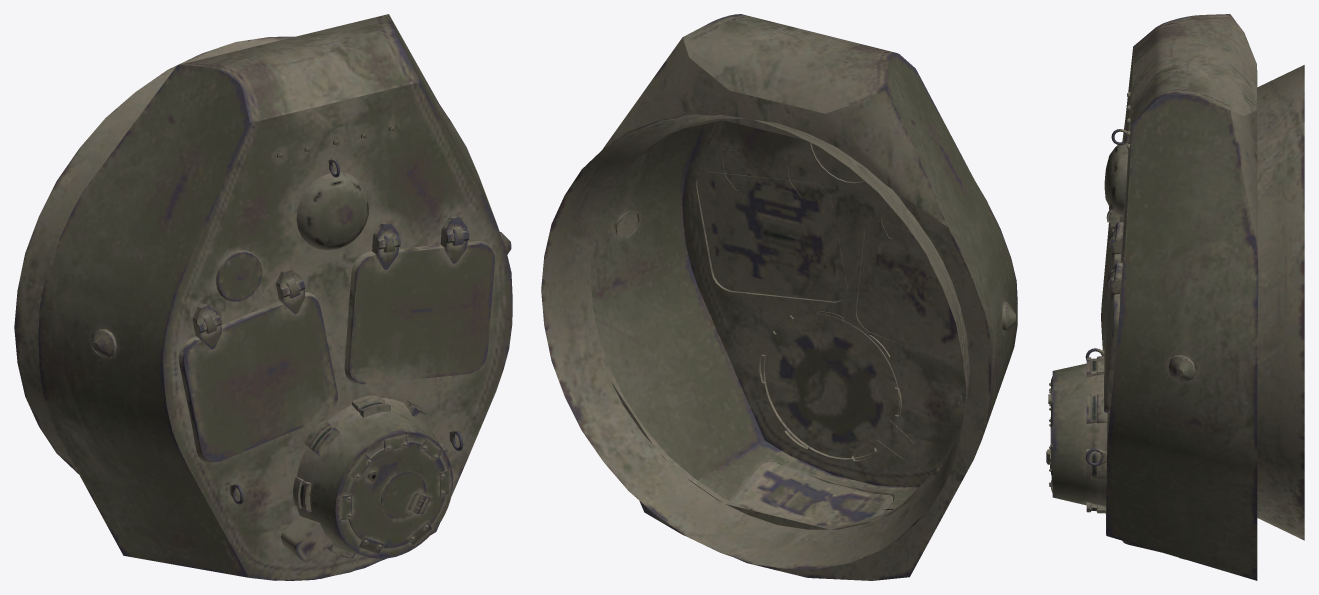
Rendered from Turret_02.glb.
3 views of the same model, side by side, from view 1: azimuth 30°, elevation 25°; view 2: azimuth 150°, elevation 25°; view 3: azimuth 270°, elevation 25° (orthographic). The views are drawn at different scales.
Parts seen in each view (by area): view 1: set_0_group_0; view 2: set_0_group_0; view 3: set_0_group_0.
Part boxes in pixels (x1=…): set_0_group_0: x1=14, y1=14, x2=512, y2=580; set_0_group_0: x1=541, y1=14, x2=1017, y2=580; set_0_group_0: x1=1046, y1=14, x2=1304, y2=580.
Bounding box in the file's own units: 1.67 × 1.89 × 0.8948.
Materials: 1 (1 with a texture image).
